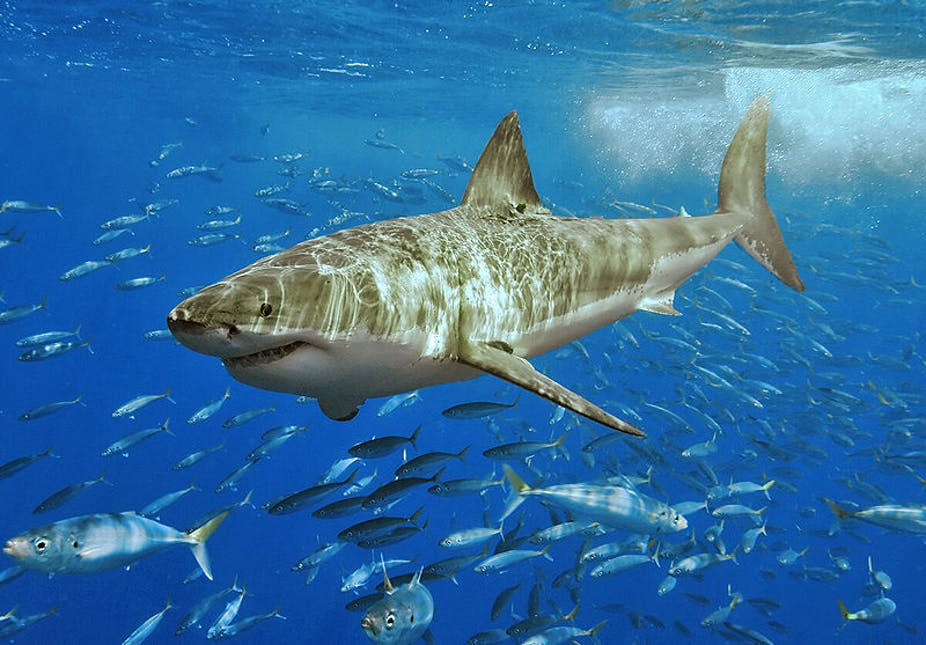shark: (177, 99, 808, 445)
